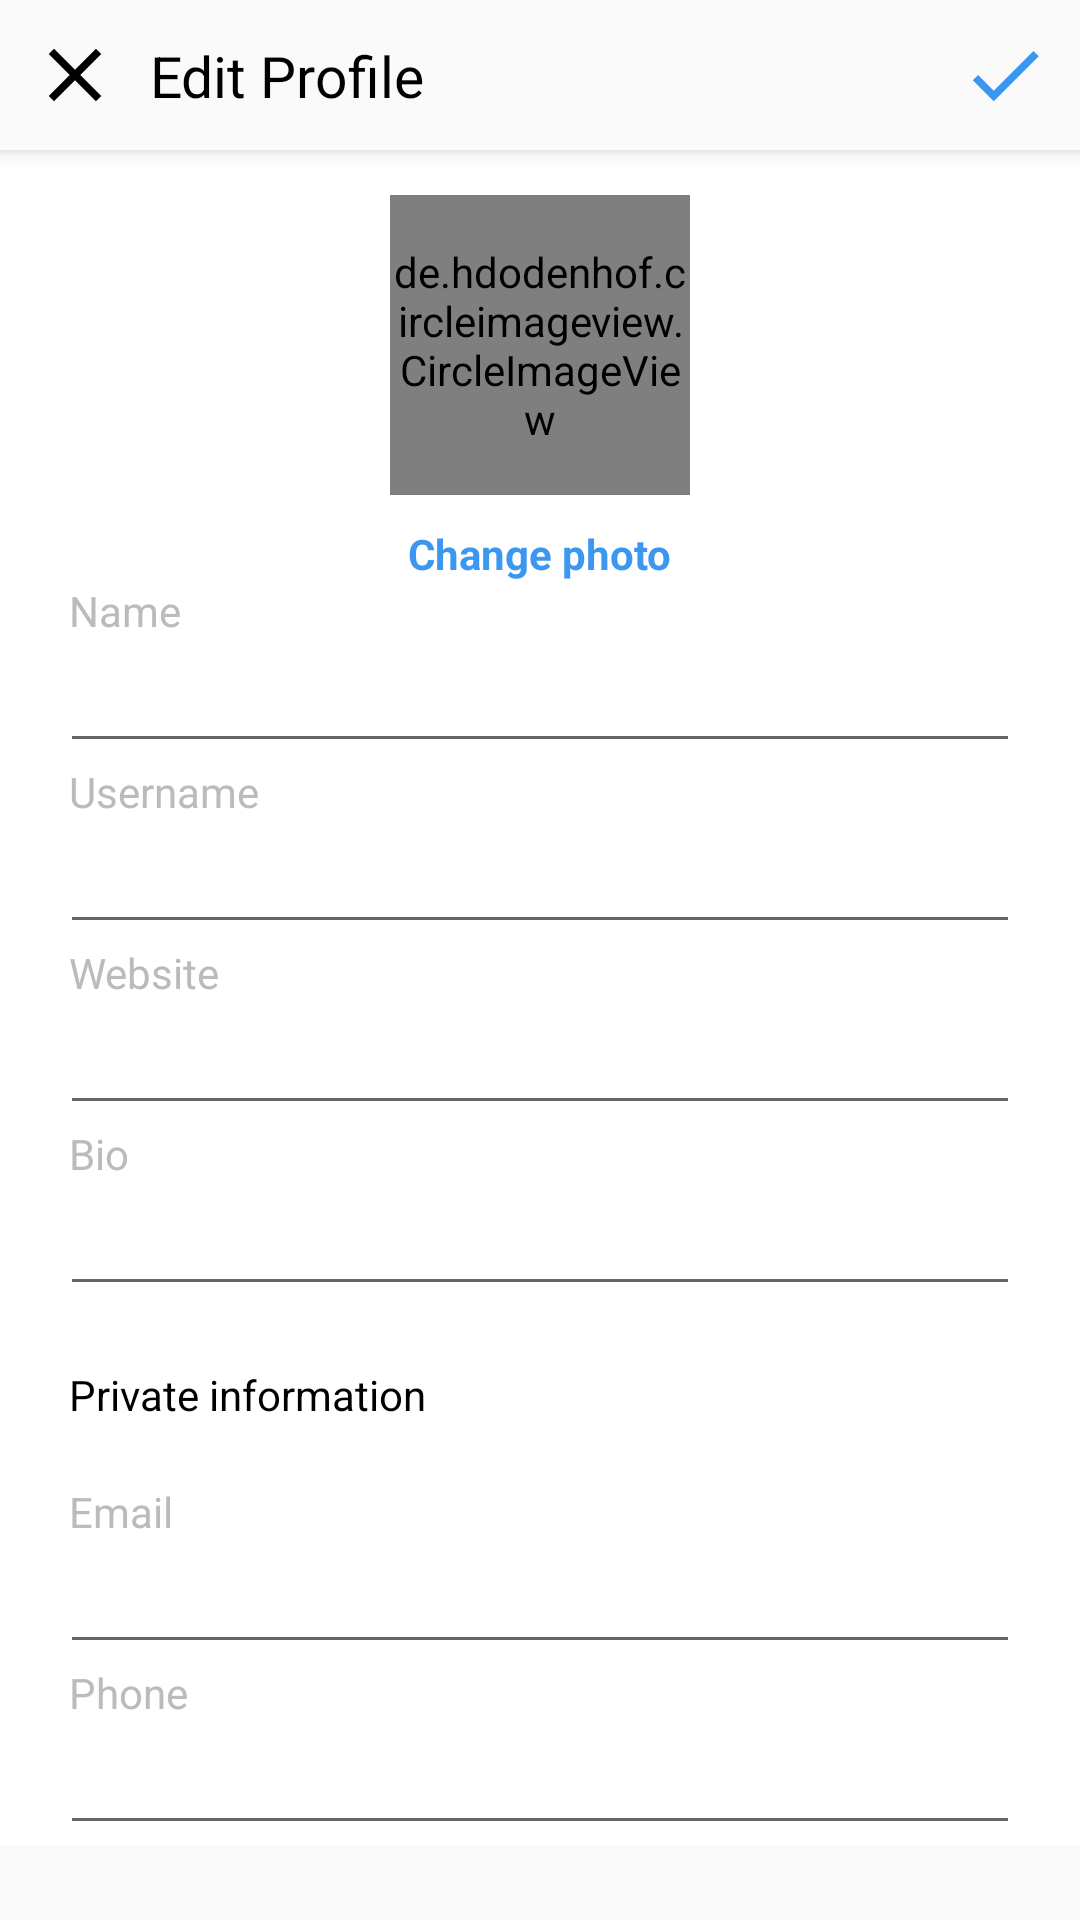

Where icons sit on this 1080 x 1920 app screen, as (x1, y1, x2, y2):
check: (973, 51, 1039, 101)
close: (49, 49, 101, 101)
